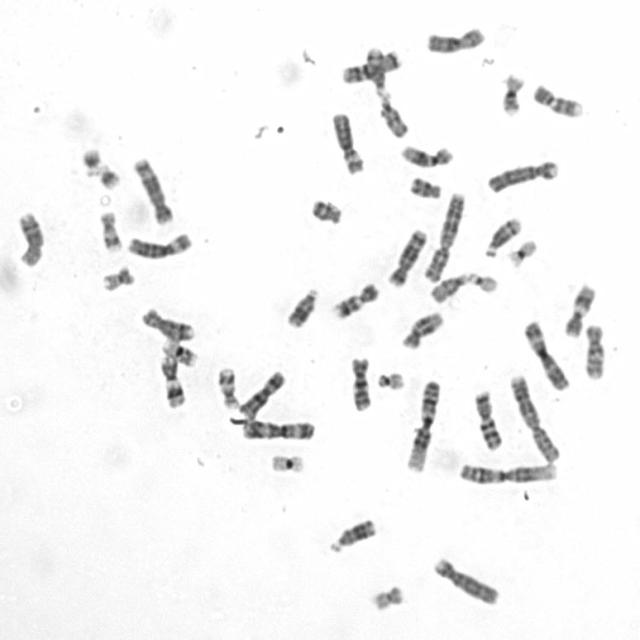A1: (402, 376, 442, 474), (454, 457, 560, 486)
A2: (506, 369, 564, 463), (421, 188, 468, 283)
A3: (519, 314, 572, 392), (239, 415, 317, 442)
B4: (429, 553, 502, 606), (484, 155, 561, 195)
B5: (129, 153, 175, 225), (384, 224, 429, 288)
C10: (580, 318, 608, 382), (346, 352, 374, 412)
C11: (560, 279, 598, 338), (156, 352, 188, 409)
C12: (398, 307, 446, 351), (397, 140, 456, 169)
C6: (328, 108, 367, 176), (123, 227, 195, 260)
C7: (338, 44, 404, 85), (470, 386, 504, 451)
C8: (138, 303, 197, 342), (13, 206, 46, 268)
C9: (528, 79, 586, 119), (329, 278, 381, 320)
D13: (326, 514, 378, 554), (283, 284, 321, 329)
D14: (480, 212, 524, 258), (361, 42, 391, 96)
D15: (376, 90, 411, 139), (426, 268, 471, 304)
E16: (498, 68, 526, 116), (159, 335, 200, 367)
E17: (214, 362, 242, 410), (96, 206, 124, 254)
E18: (307, 193, 345, 226), (406, 172, 443, 200)
F19: (504, 235, 539, 267), (267, 449, 307, 474)
F20: (367, 580, 406, 612), (98, 261, 136, 293)
G21: (77, 143, 104, 177), (94, 158, 122, 190)
G22: (465, 267, 500, 294), (373, 366, 407, 391)
X: (235, 366, 288, 419), (422, 22, 486, 54)
